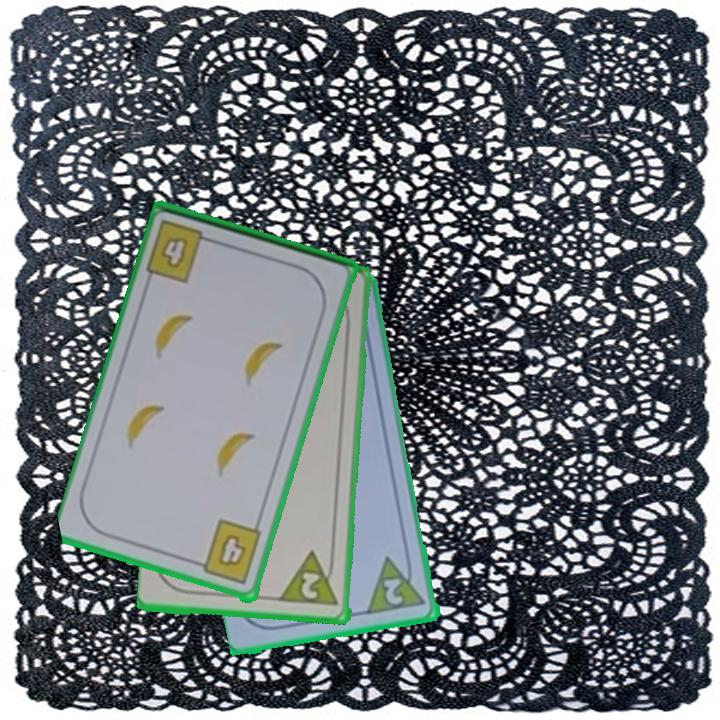2p: (380, 575, 407, 608), (298, 568, 323, 602)
4b: (190, 517, 265, 588), (157, 234, 191, 272)
